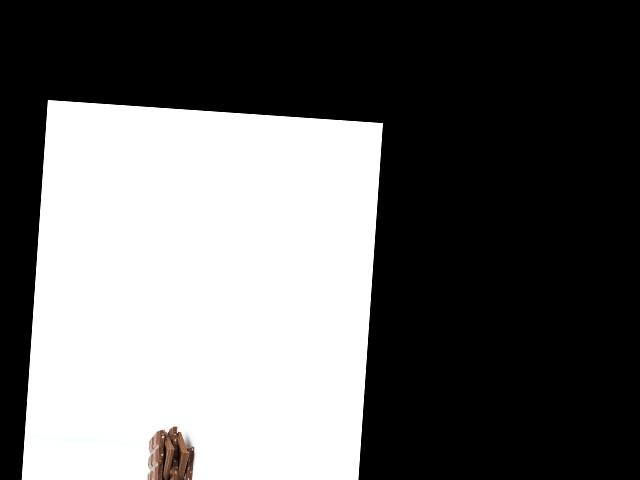chocolate: (163, 431, 199, 480)
